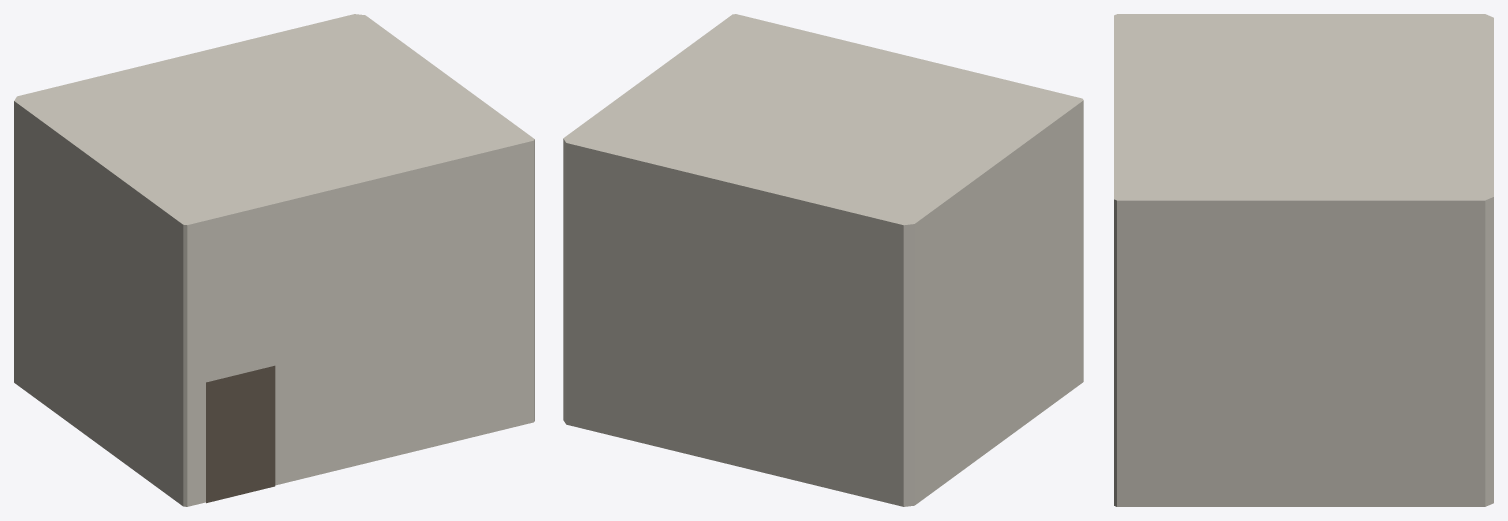
The model's file is loin-etape-1.glb.
The picture shows the model from 3 angles, left to right: view 1: azimuth 30°, elevation 25°; view 2: azimuth 150°, elevation 25°; view 3: azimuth 270°, elevation 25°; orthographic projection. The views are drawn at different scales.
Parts seen in each view (by area): view 1: loin; view 2: loin; view 3: loin.
Part boxes in pixels (x1,y1,x2,y2): loin: (14, 14, 534, 506); loin: (563, 14, 1083, 506); loin: (1114, 14, 1493, 506).
Size of the model in its own units: 0.756 by 0.5793 by 0.6539.
